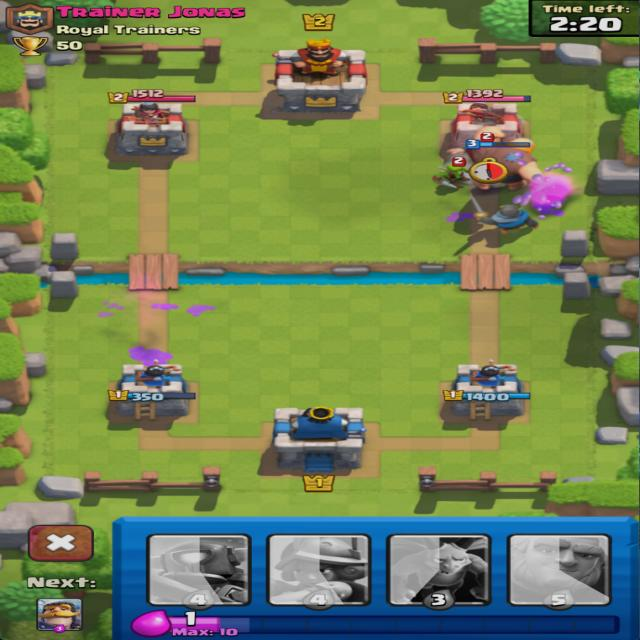Enemy_Goblin_Troop: (435, 164, 470, 188)
Giant_Loading: (507, 533, 611, 611)
Giant_Troop: (469, 128, 555, 190)
Knight_Next: (26, 577, 96, 633)
Knight_Troop: (472, 199, 540, 232)
Mini_Pekka_Loading: (146, 533, 252, 611)
Minions_Loading: (388, 532, 492, 612)
Musketeer_Loading: (267, 533, 371, 611)
